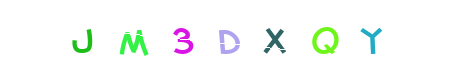3: (189, 0, 269, 80)
D: (198, 0, 278, 80)
J: (76, 0, 156, 80)
M: (144, 0, 224, 80)
Q: (254, 0, 334, 80)
X: (234, 0, 314, 80)
Y: (331, 0, 411, 80)
